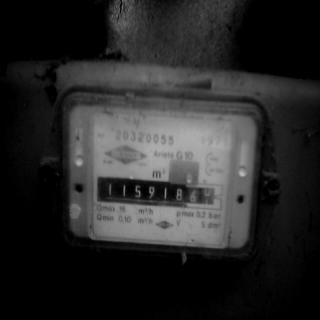2: (106, 181, 114, 197), (163, 186, 170, 203), (121, 183, 128, 198)
6: (134, 185, 143, 200)
7: (188, 189, 199, 205)
9: (175, 187, 183, 203)
:: (147, 184, 156, 201)
